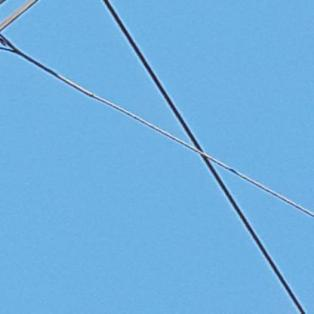Poste: (0, 0, 11, 314)
